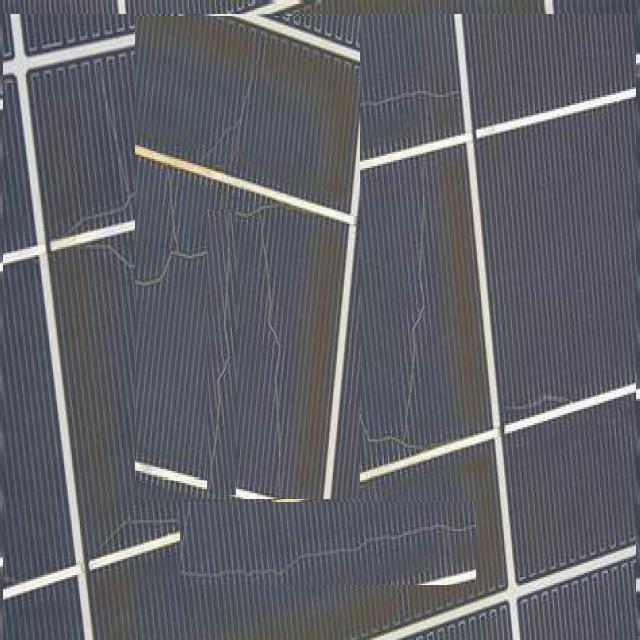Dusty: (135, 17, 360, 499)
Electrical-damage: (244, 195, 560, 419), (449, 414, 584, 606), (181, 503, 476, 585), (208, 210, 236, 495)
